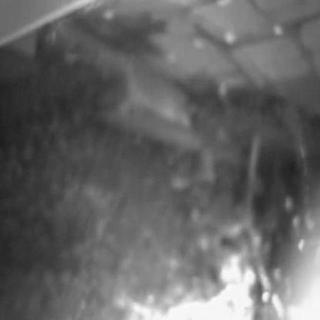other: (162, 229, 320, 319)
